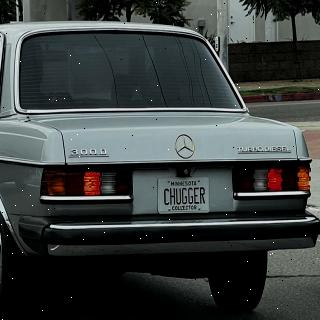license: (158, 178, 210, 215)
